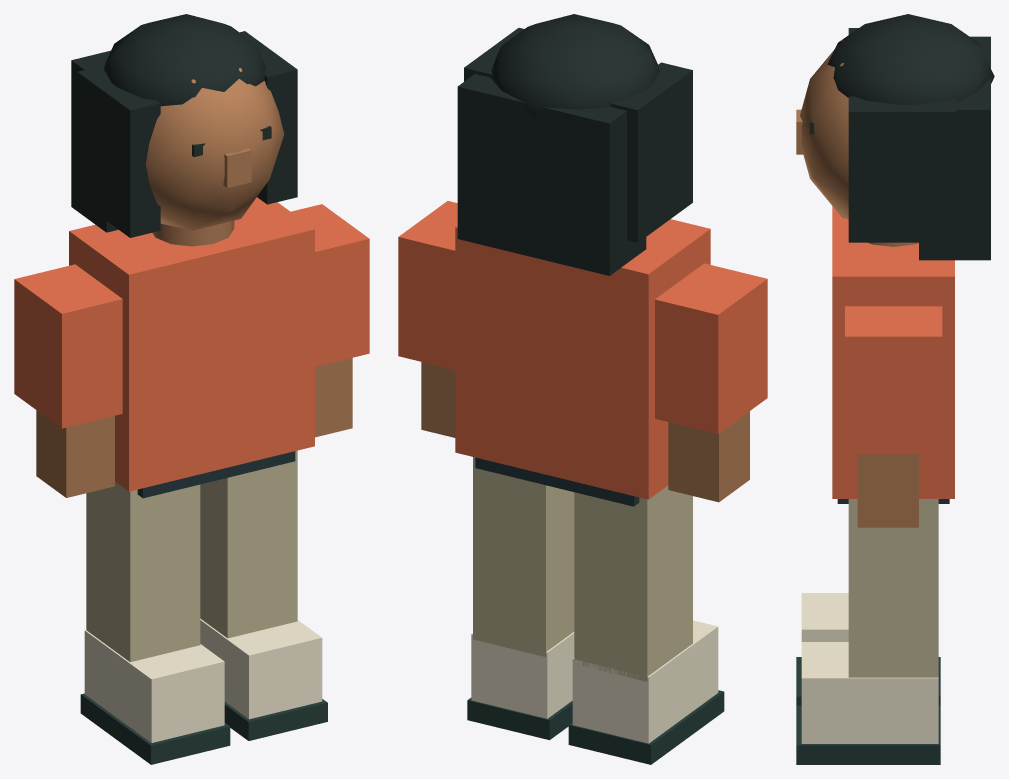
Rendered from male-bob.glb.
The picture shows the model from 3 angles, left to right: view 1: azimuth 30°, elevation 25°; view 2: azimuth 150°, elevation 25°; view 3: azimuth 270°, elevation 25°; orthographic projection. The views are drawn at different scales.
Parts seen in each view (by area): view 1: male-bob, avatar-hair; view 2: male-bob, avatar-hair; view 3: male-bob, avatar-hair.
Part boxes in pixels (box(x1,y1,x2,y2)): male-bob: box(14, 14, 369, 764); avatar-hair: box(71, 31, 297, 237); male-bob: box(398, 14, 767, 764); avatar-hair: box(457, 28, 692, 275); male-bob: box(796, 14, 994, 764); avatar-hair: box(848, 28, 990, 260).
Bounding box in the file's own units: 1.01 × 2.13 × 0.55.
